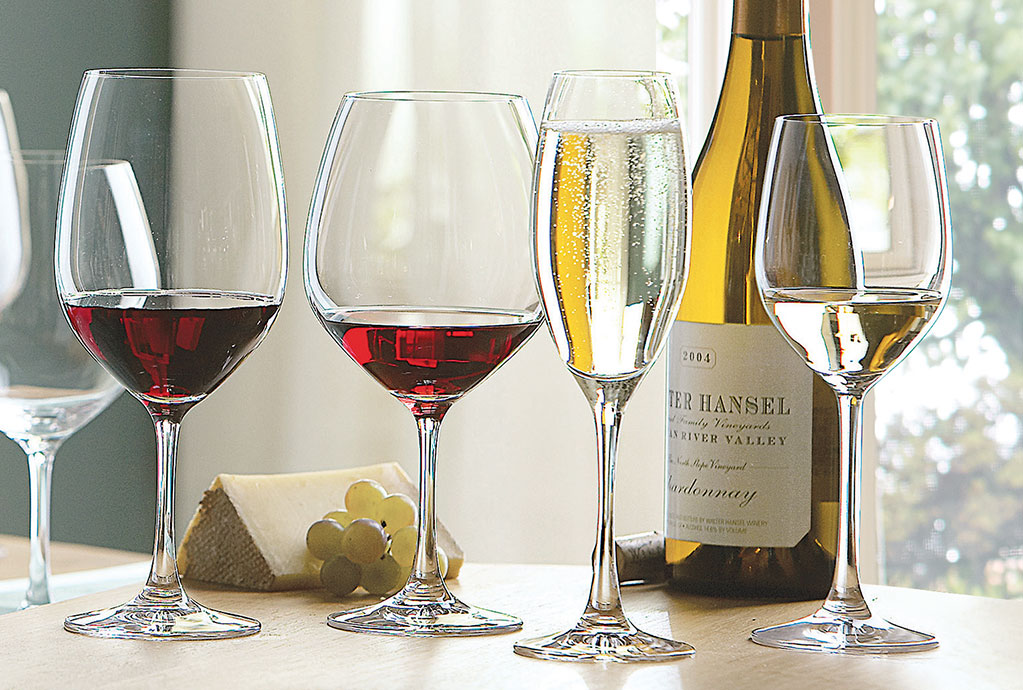Nonrec_Glass: (57, 45, 298, 656), (312, 74, 549, 642), (753, 96, 963, 666), (525, 60, 720, 665), (1, 142, 159, 621)
Rec_Glass: (641, 1, 865, 599)
